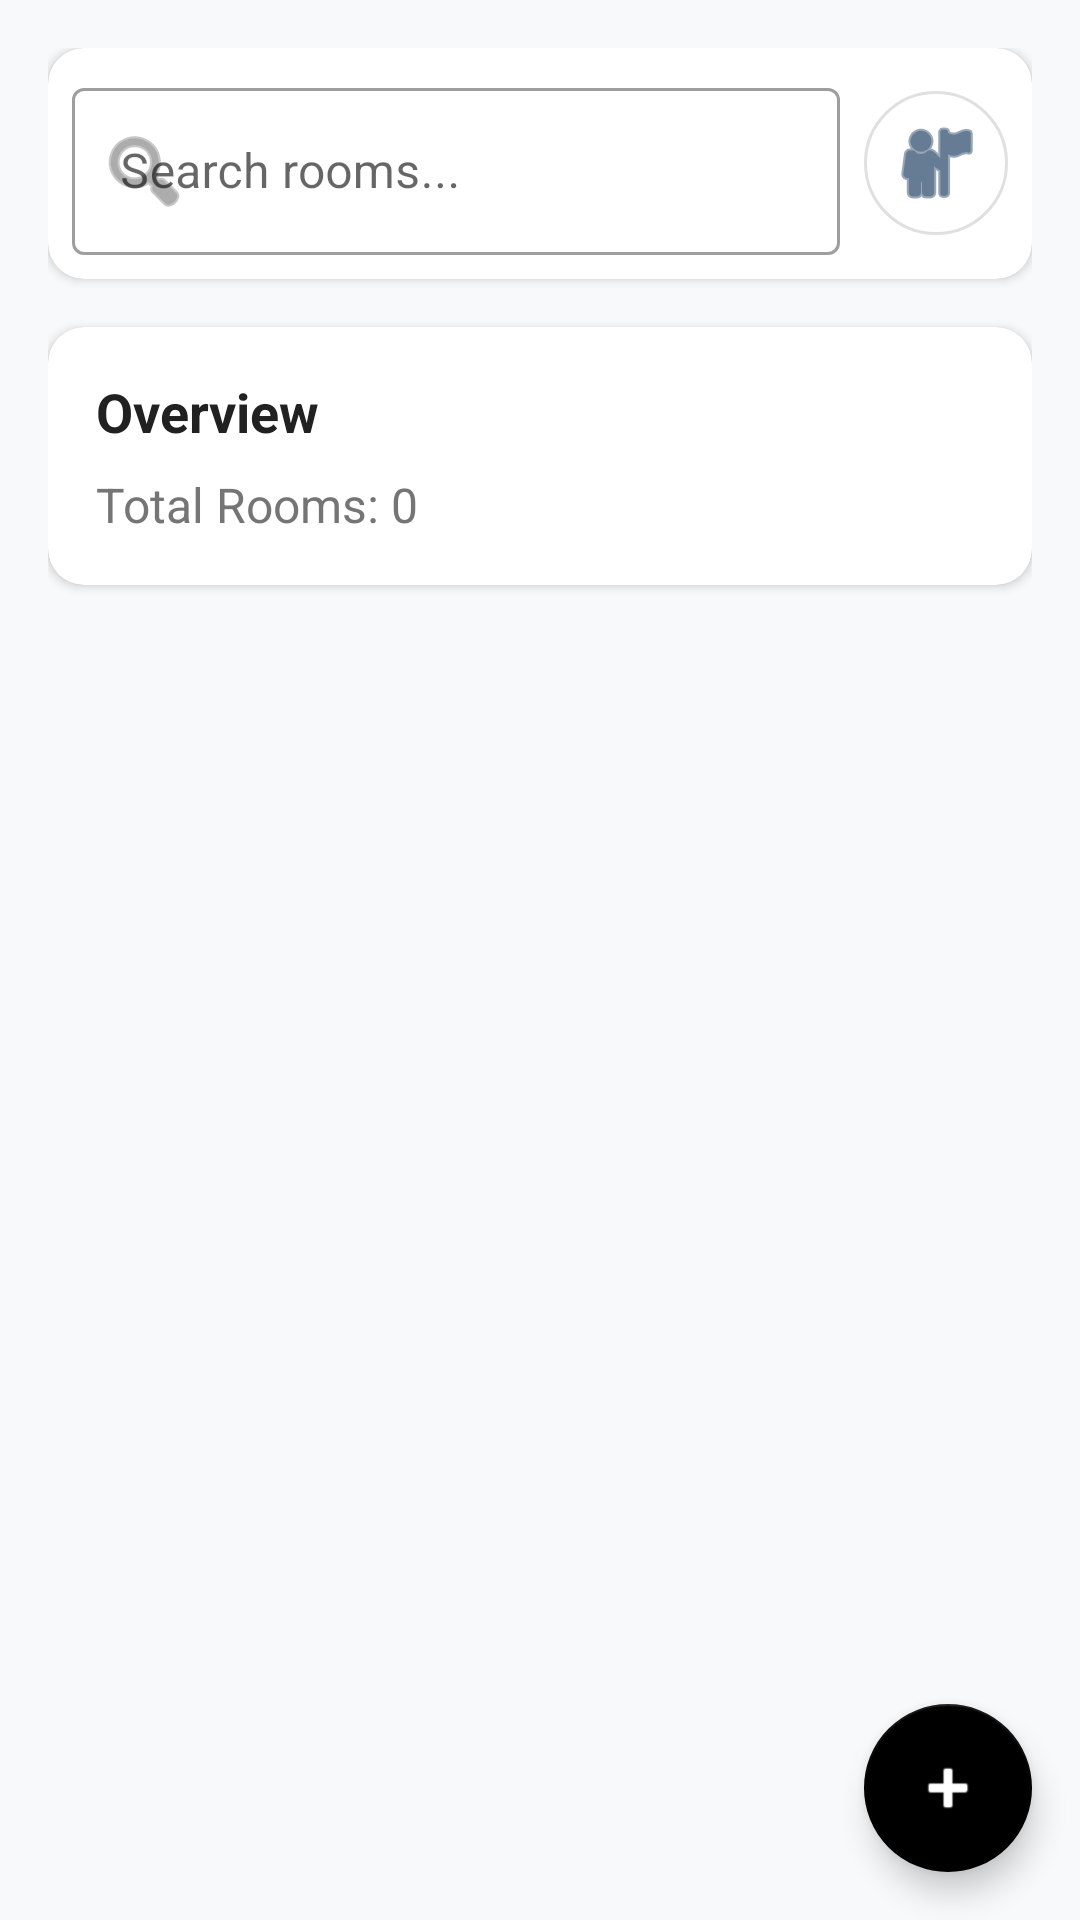

Icons on this 1080 × 1920 Android screen, each with the point to tap as point (x, y):
Add New Room: point (948, 1788)
myplaces: point (936, 163)
